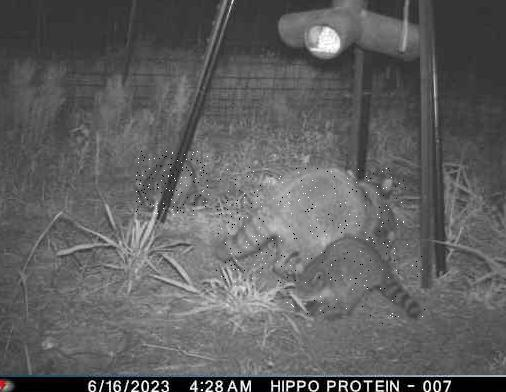Raccoon: (215, 168, 407, 285), (287, 235, 426, 324), (136, 152, 209, 216)
